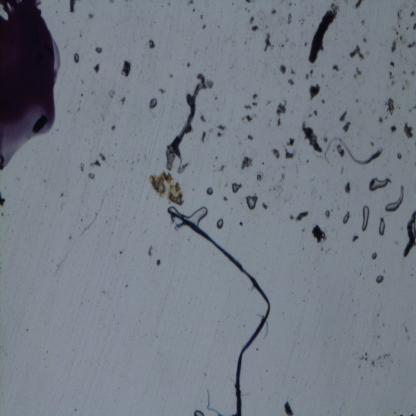Air bubble: (167, 205, 209, 222), (384, 185, 405, 212), (361, 205, 370, 231), (246, 194, 258, 210), (230, 181, 242, 193), (378, 216, 385, 236), (192, 406, 205, 416), (342, 211, 351, 224), (205, 186, 214, 198), (216, 217, 223, 230), (376, 273, 384, 283), (372, 251, 378, 260)
Background material: (308, 3, 339, 64), (148, 171, 186, 206), (301, 120, 323, 153), (276, 95, 289, 126), (312, 222, 327, 244), (369, 176, 389, 192), (370, 352, 391, 367), (350, 43, 366, 60), (264, 31, 276, 52), (289, 210, 308, 222), (384, 97, 394, 119), (240, 153, 252, 171), (309, 82, 320, 100), (283, 400, 294, 416), (121, 60, 132, 76), (404, 121, 414, 138), (282, 147, 295, 160), (148, 96, 160, 110), (68, 0, 78, 16), (87, 160, 102, 168), (256, 169, 265, 182), (146, 243, 154, 257), (337, 143, 345, 157), (390, 38, 397, 54), (92, 63, 102, 74), (352, 67, 362, 78), (396, 8, 404, 21), (286, 11, 294, 24), (0, 190, 6, 207), (406, 39, 416, 49), (271, 148, 280, 159), (342, 121, 351, 132), (388, 71, 395, 85), (73, 52, 81, 64), (250, 23, 260, 32), (353, 0, 362, 10), (280, 63, 288, 74), (344, 182, 351, 194), (287, 137, 296, 146), (216, 123, 227, 130), (340, 110, 347, 121), (120, 96, 128, 105), (107, 90, 116, 98), (147, 40, 156, 48), (389, 124, 398, 132), (207, 78, 214, 88), (201, 129, 206, 143), (360, 351, 367, 361), (79, 161, 85, 172), (340, 163, 346, 174), (408, 104, 416, 112), (87, 172, 95, 180), (332, 64, 340, 72), (218, 164, 226, 172), (199, 114, 206, 123), (110, 123, 118, 130), (352, 234, 359, 242), (245, 114, 253, 121), (94, 46, 103, 52), (88, 10, 94, 19), (287, 79, 294, 86), (304, 73, 310, 81), (326, 209, 332, 217), (98, 154, 106, 160), (396, 151, 402, 159), (362, 36, 368, 44), (262, 202, 268, 210), (410, 10, 416, 18), (245, 6, 251, 14), (270, 9, 279, 14), (249, 15, 254, 24), (394, 28, 400, 35), (222, 195, 228, 202), (156, 258, 161, 266), (252, 92, 257, 100), (245, 104, 251, 110), (291, 69, 297, 75), (410, 70, 416, 76), (247, 134, 253, 140), (202, 23, 207, 30), (406, 24, 411, 31), (160, 87, 165, 94), (313, 109, 318, 116), (187, 0, 194, 5), (281, 173, 285, 181), (400, 34, 404, 42), (238, 221, 244, 226), (360, 20, 366, 25), (217, 131, 223, 136), (321, 98, 326, 104), (413, 21, 416, 31), (252, 102, 258, 107), (186, 62, 191, 68), (404, 326, 408, 333), (310, 70, 314, 77), (370, 140, 374, 147), (379, 116, 383, 122), (320, 246, 324, 252), (280, 42, 284, 48), (304, 41, 308, 47), (403, 68, 407, 74), (301, 19, 305, 25), (322, 73, 326, 78), (409, 412, 414, 416), (267, 99, 271, 104), (390, 62, 394, 67), (255, 347, 259, 352), (398, 24, 402, 29), (192, 7, 196, 12), (215, 154, 218, 160), (109, 0, 115, 3), (81, 78, 84, 84), (200, 14, 203, 20), (214, 95, 217, 101), (60, 192, 64, 196), (241, 117, 245, 121), (402, 86, 406, 90), (288, 2, 292, 6), (308, 113, 312, 117), (168, 1, 171, 6), (69, 235, 72, 240), (377, 334, 380, 339), (119, 249, 122, 254), (170, 73, 173, 78), (246, 0, 251, 3), (307, 159, 310, 164), (78, 108, 81, 112), (360, 270, 362, 276), (400, 413, 404, 416), (81, 92, 83, 97), (303, 228, 305, 233), (302, 248, 305, 251), (80, 34, 82, 38), (192, 186, 194, 190), (132, 161, 134, 165), (62, 20, 64, 24), (262, 162, 264, 165), (377, 314, 379, 317), (383, 324, 385, 326)
Cellulose filter fibre: (164, 70, 208, 171), (323, 137, 382, 166), (403, 212, 416, 259)
Cotton: (180, 218, 273, 416)
Pen: (0, 0, 62, 171)
